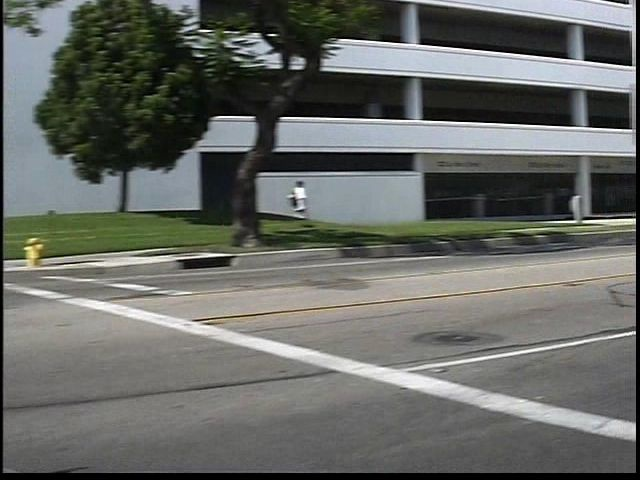person: (305, 177, 331, 238)
